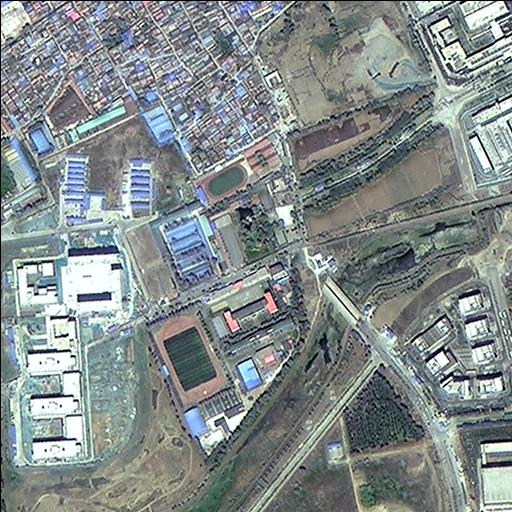school: (147, 261, 303, 457), (198, 137, 285, 204)
